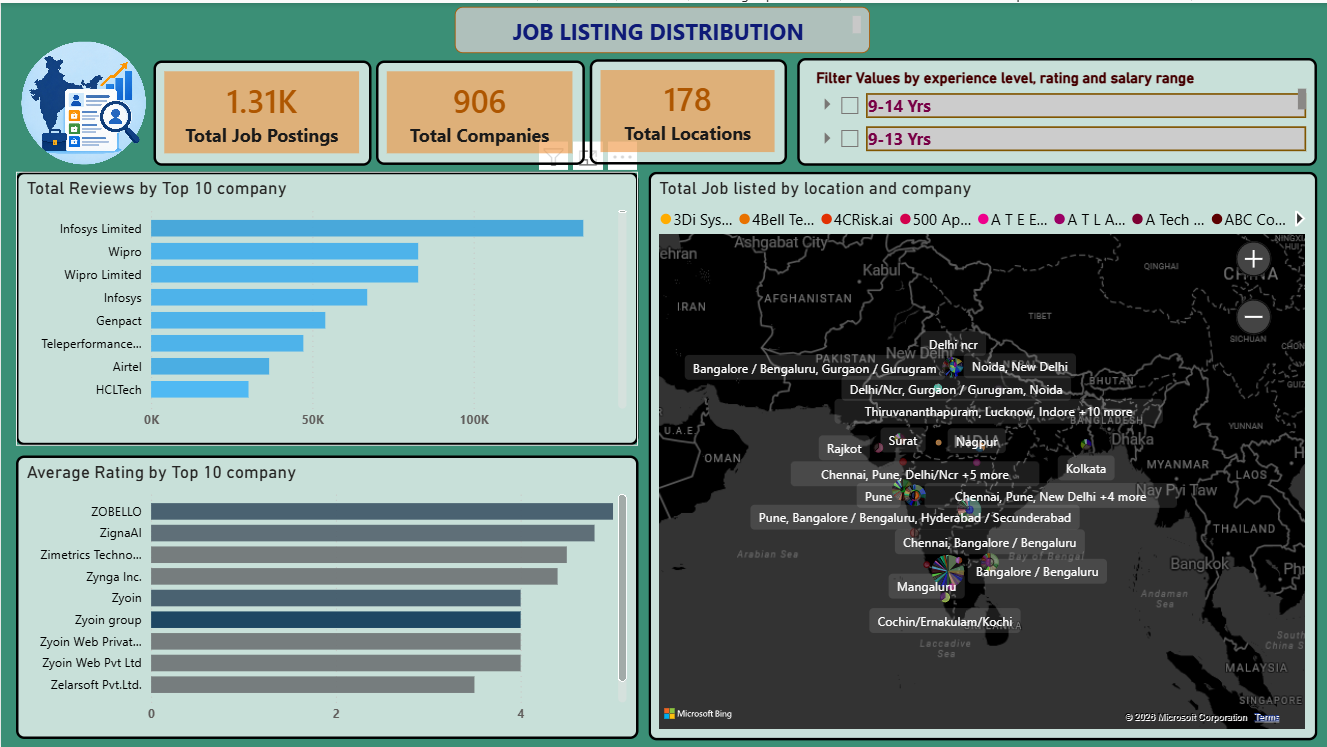

The dashboard page shown, as its layout file describes it:
{"tool":"powerbi","page":{"name":"Page 1","canvas":[1280,720],"ordinal":0},"visuals":[{"type":"cardVisual","fields":{"Data":["dataAnalystJobsIndia_7th_July_2024.Total Job Postings"]},"box":[15,40,216.2,106.2],"z":0},{"type":"textbox","box":[431.9,0,398.1,39.8],"z":1000},{"type":"cardVisual","fields":{"Data":["dataAnalystJobsIndia_7th_July_2024.Total Companies"]},"box":[231.2,40.5,201.2,107.5],"z":2000},{"type":"cardVisual","fields":{"Data":["dataAnalystJobsIndia_7th_July_2024.Total Locations"]},"box":[432.5,40.5,183.8,107.5],"z":3000},{"type":"map","fields":{"Size":["dataAnalystJobsIndia_7th_July_2024.Total Job listed"],"Category":["dataAnalystJobsIndia_7th_July_2024.location"],"Series":["dataAnalystJobsIndia_7th_July_2024.company"]},"box":[624.9,213.5,645.4,498.3],"z":4000},{"type":"barChart","title":"Average Rating by Top 10 company","fields":{"Category":["dataAnalystJobsIndia_7th_July_2024.company"],"Y":["dataAnalystJobsIndia_7th_July_2024.Average Rating"]},"box":[14.4,430,601.1,281.1],"z":5000},{"type":"barChart","title":"Total Reviews by Top 10 company","fields":{"Category":["dataAnalystJobsIndia_7th_July_2024.company"],"Y":["dataAnalystJobsIndia_7th_July_2024.Total Reviews Count"]},"box":[14.4,155.6,601.1,271.1],"z":6000},{"type":"slicer","fields":{"Values":["dataAnalystJobsIndia_7th_July_2024.experience","dataAnalystJobsIndia_7th_July_2024.rating","dataAnalystJobsIndia_7th_July_2024.salary"]},"box":[624.9,42.2,645.4,161.7],"z":7500}]}

Visuals, with their boxes in screenshot pixels (x1, y1, x2, y2), scaled from the page's 1280x720 canvas onto the 1327x747 screenshot:
cardVisual - dataAnalystJobsIndia_7th_July_2024.Total Job Postings: rect(16, 42, 240, 152)
textbox: rect(448, 0, 860, 41)
cardVisual - dataAnalystJobsIndia_7th_July_2024.Total Companies: rect(240, 42, 448, 154)
cardVisual - dataAnalystJobsIndia_7th_July_2024.Total Locations: rect(448, 42, 639, 154)
map - dataAnalystJobsIndia_7th_July_2024.Total Job listed x dataAnalystJobsIndia_7th_July_2024.location: rect(648, 222, 1317, 738)
"Average Rating by Top 10 company" barChart: rect(15, 446, 638, 738)
"Total Reviews by Top 10 company" barChart: rect(15, 161, 638, 443)
slicer - dataAnalystJobsIndia_7th_July_2024.experience x dataAnalystJobsIndia_7th_July_2024.rating: rect(648, 44, 1317, 212)
